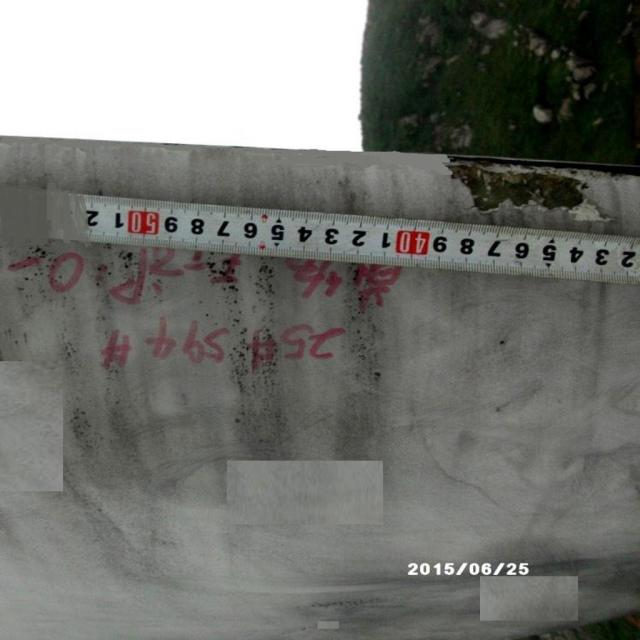surface_peeling: (434, 154, 608, 226)
